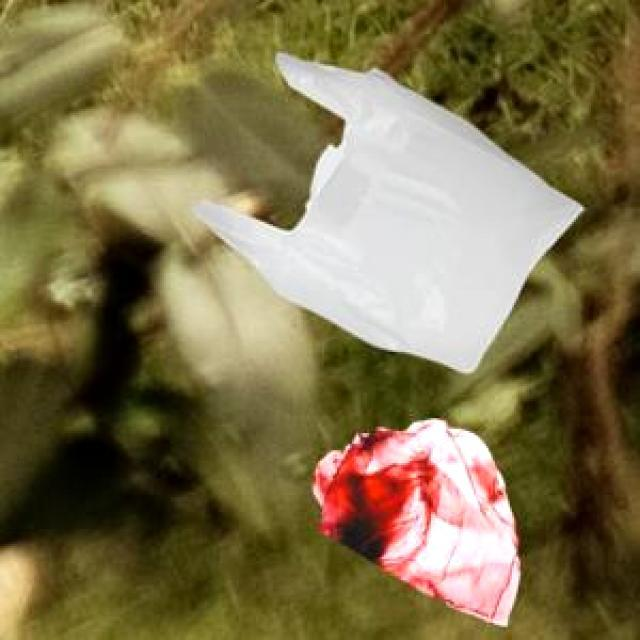Plastic_Bag: (190, 50, 580, 370), (308, 417, 518, 622)
